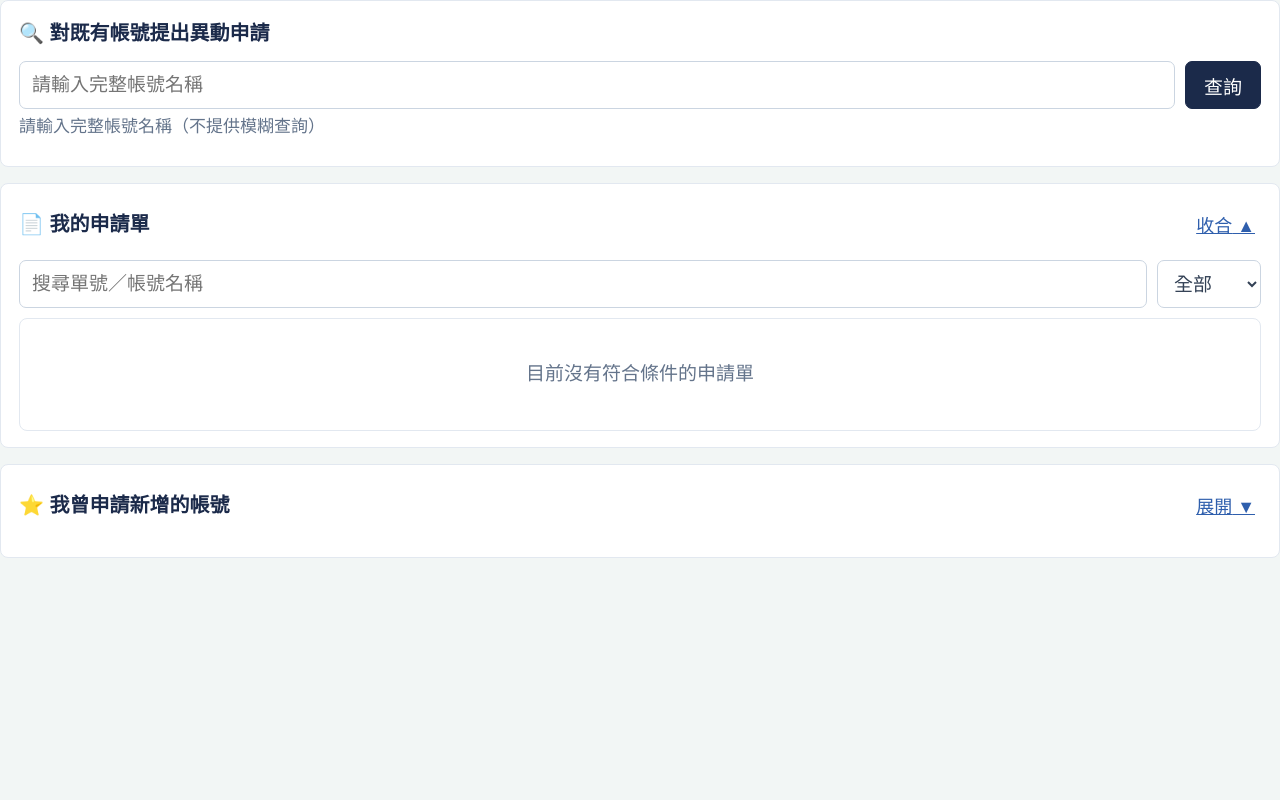
Scenario: 帳號申請單列表 › 以完整帳號名稱查詢（acctName），顯示 U05；無 ACC_LIST_FULL 不顯示查看／歷史，異動按鈕照舊並帶 acctName
In the field with placeholder "請輸入完整帳號名稱": [597, 85] box [19, 61, 1175, 109], type "  sa "
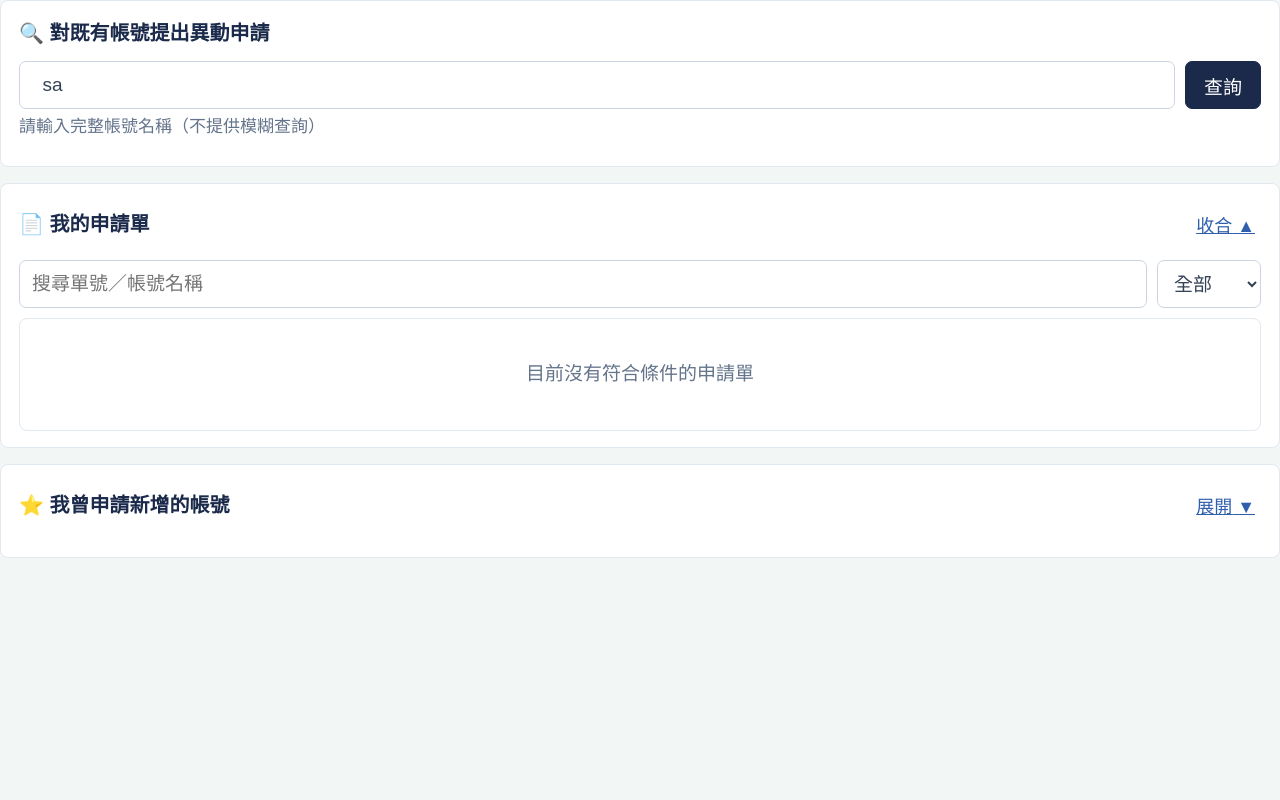
Submit the form with class "lookup", box [19, 61, 1261, 109]
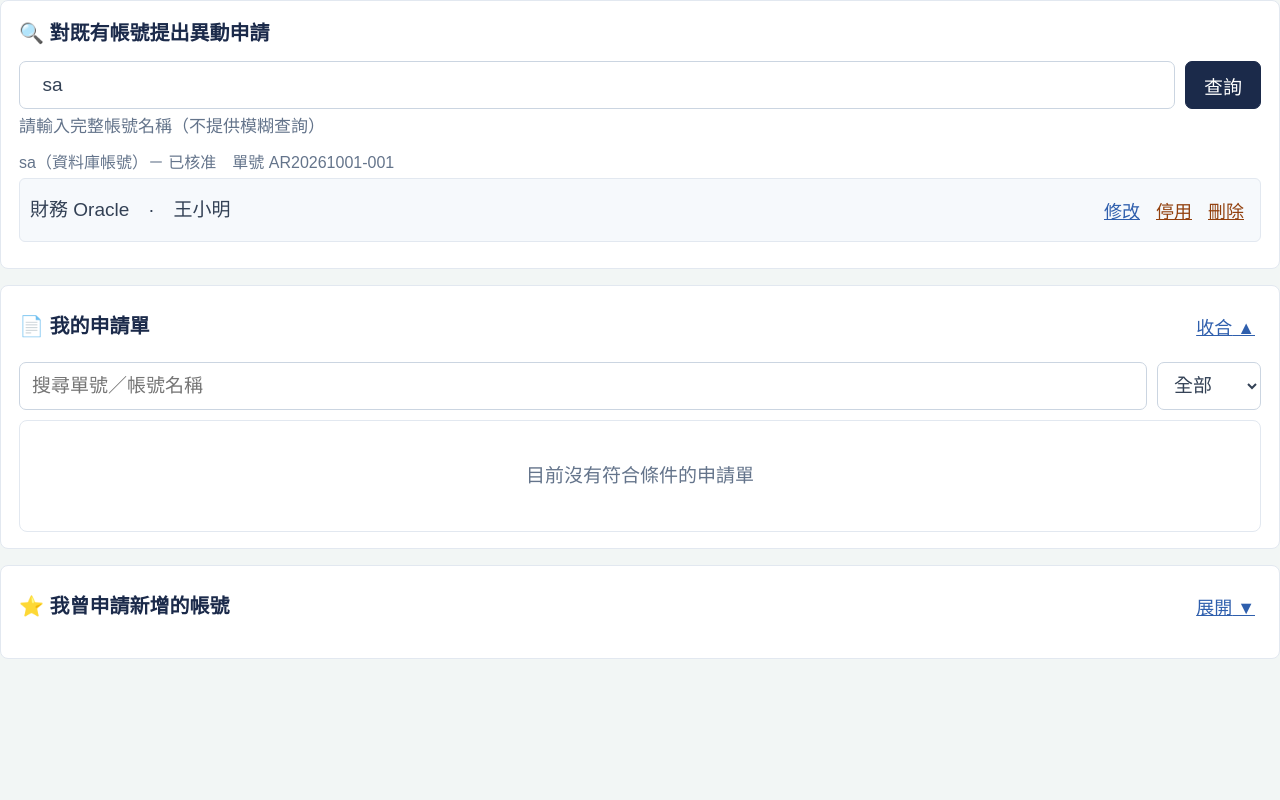
Check: the text with class "lookup-hint" reads "請輸入完整帳號名稱（不提供模糊查詢）", box [19, 117, 325, 136]
Check: the button with class "op-modify" is shown, box [1098, 186, 1146, 234]
Check: the button with class "op-disable" is shown, box [1150, 186, 1198, 234]
